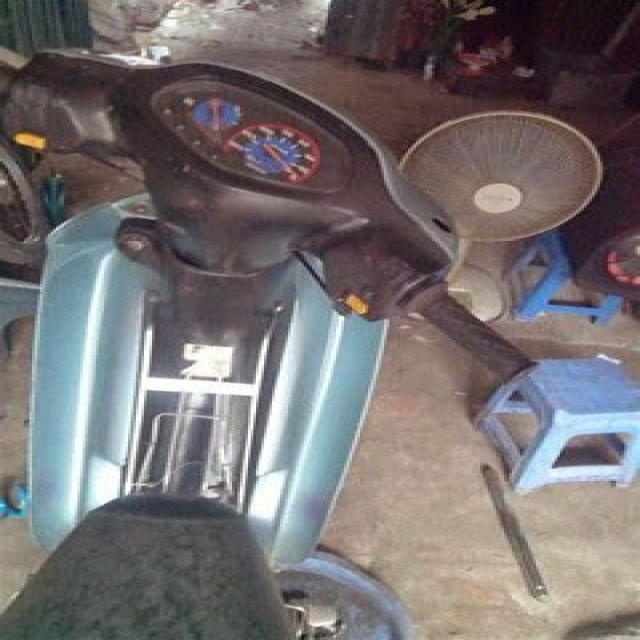motorcycle: (19, 50, 616, 635)
